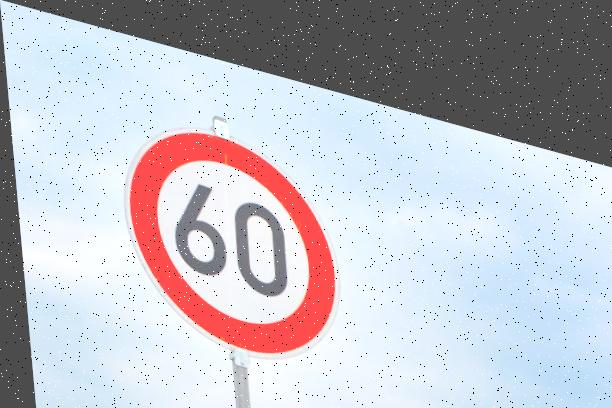Speed Limit -60-: (108, 92, 346, 366)
